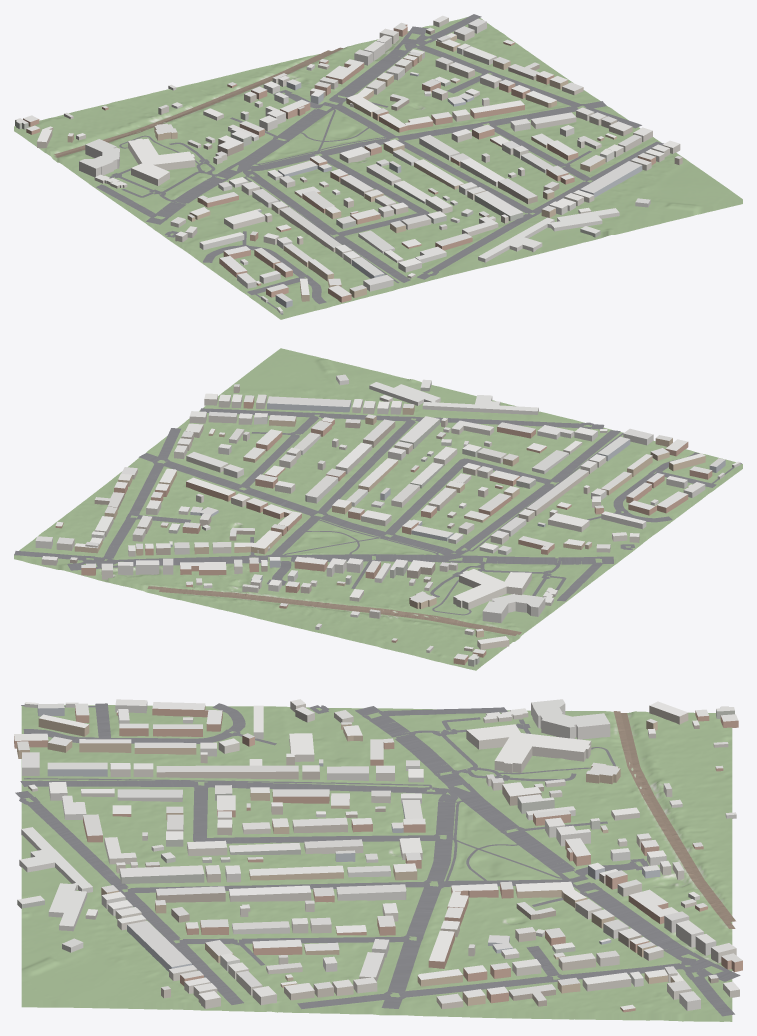
The picture shows the model from 3 angles, top to bottom: view 1: azimuth 30°, elevation 25°; view 2: azimuth 150°, elevation 25°; view 3: azimuth 270°, elevation 25°; orthographic projection. The views are drawn at different scales.
Parts seen in each view (by area): view 1: prim0, prim1, prim2, prim3; view 2: prim0, prim1, prim2, prim3; view 3: prim0, prim1, prim2, prim3.
Part boxes in pixels (bbox=[...]): prim0: bbox=[14, 16, 742, 319]; prim1: bbox=[15, 15, 682, 313]; prim2: bbox=[96, 14, 663, 314]; prim3: bbox=[54, 47, 343, 157]; prim0: bbox=[14, 348, 742, 670]; prim1: bbox=[35, 374, 740, 666]; prim2: bbox=[14, 408, 741, 615]; prim3: bbox=[147, 586, 521, 635]; prim0: bbox=[21, 705, 732, 1021]; prim1: bbox=[14, 699, 742, 1012]; prim2: bbox=[15, 703, 740, 1016]; prim3: bbox=[613, 711, 735, 928].
Bounding box in the file's own units: 525 × 23.81 × 525.
